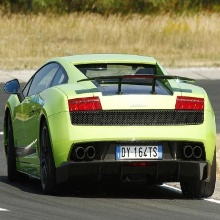no damage: (2, 54, 217, 198)
